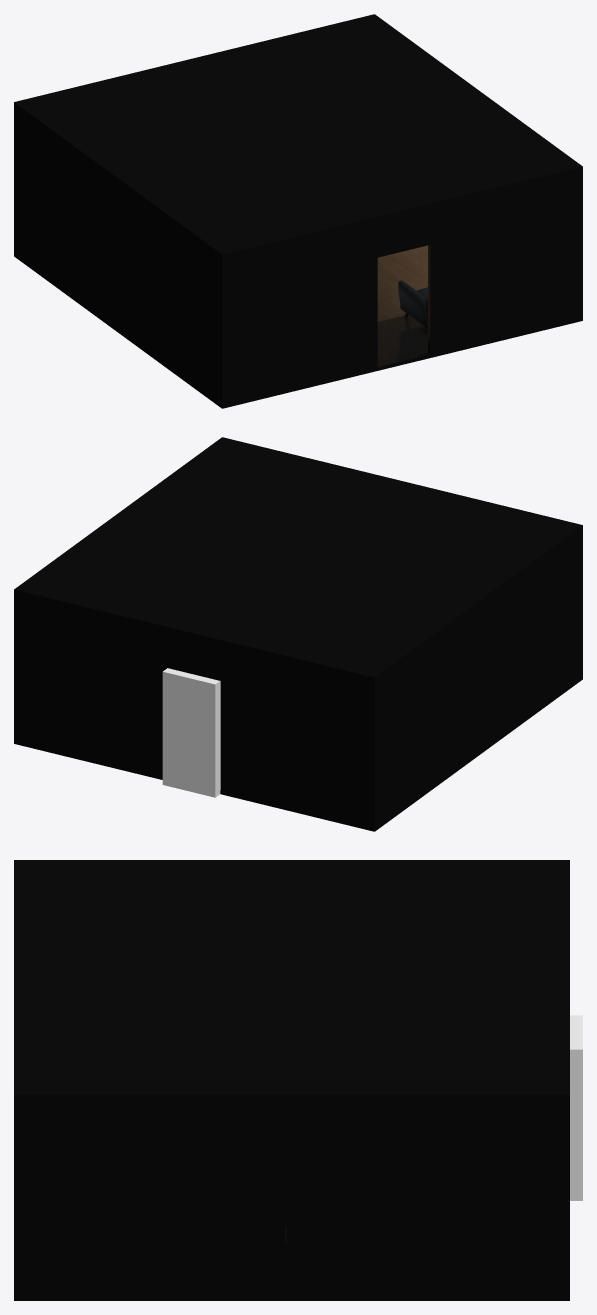
The model's file is room_lobby_engine.obj.
3 renders of one model, top to bottom at view 1: azimuth 30°, elevation 25°; view 2: azimuth 150°, elevation 25°; view 3: azimuth 270°, elevation 25°, orthographic. The views are drawn at different scales.
Visible parts, largest first — view 1: Rectangle045, celling_lobby, Rectangle046, Couch_Medium002; view 2: Rectangle045, celling_lobby, PH_DOOR_lobby_ec, Rectangle046; view 3: celling_lobby, Rectangle045, Rectangle046, PH_DOOR_lobby_ec.
Boxes of the visible parts, <box> form: Rectangle045: <box>14,105,582,408</box>; celling_lobby: <box>14,14,582,258</box>; Rectangle046: <box>16,245,582,408</box>; Couch_Medium002: <box>398,280,427,332</box>; Rectangle045: <box>14,529,582,831</box>; celling_lobby: <box>14,437,582,681</box>; PH_DOOR_lobby_ec: <box>162,668,220,797</box>; Rectangle046: <box>16,676,582,830</box>; celling_lobby: <box>14,860,569,1099</box>; Rectangle045: <box>14,1099,569,1300</box>; Rectangle046: <box>14,1296,569,1300</box>; PH_DOOR_lobby_ec: <box>570,1015,582,1200</box>.
Size of the model in its own units: 100 by 40.95 by 102.
